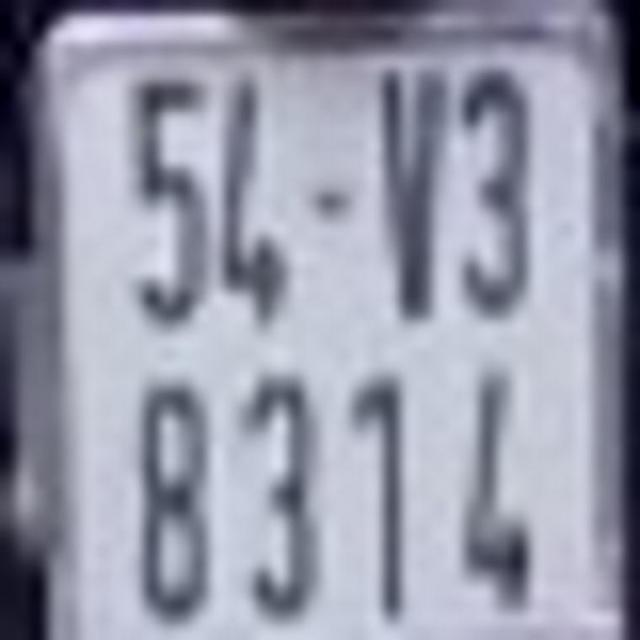1: (343, 375, 409, 604)
3: (457, 67, 539, 316), (250, 388, 315, 604)
4: (465, 377, 537, 600), (228, 86, 286, 326)
5: (136, 82, 210, 322)
8: (131, 388, 205, 612)
V: (380, 73, 440, 322)
